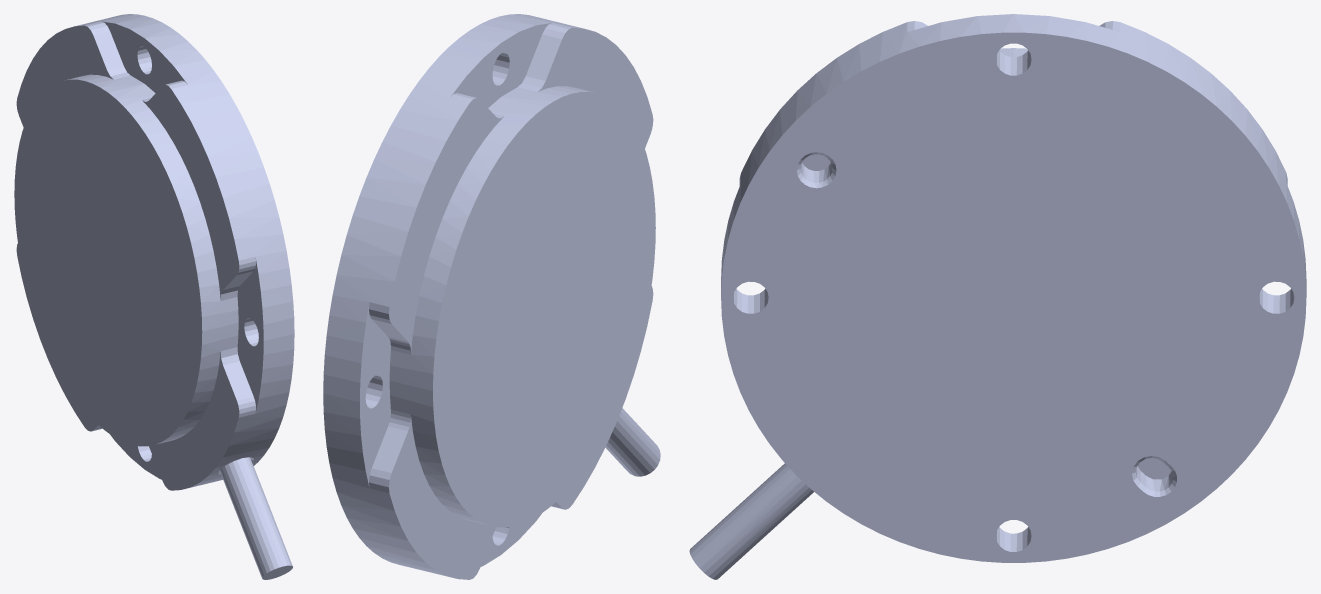
Rendered from jaka0.fbx.
3 renders of one model, left to right at view 1: azimuth 30°, elevation 25°; view 2: azimuth 150°, elevation 25°; view 3: azimuth 270°, elevation 25°, orthographic. The views are drawn at different scales.
Visible parts, largest first — view 1: JAKAR7-01-08_____; view 2: JAKAR7-01-08_____; view 3: JAKAR7-01-08_____.
Boxes of the visible parts, x1=… form: JAKAR7-01-08_____: x1=14, y1=14, x2=294, y2=579; JAKAR7-01-08_____: x1=323, y1=14, x2=660, y2=579; JAKAR7-01-08_____: x1=689, y1=14, x2=1306, y2=579.
Size of the model in its own units: 24 by 155 by 155.
